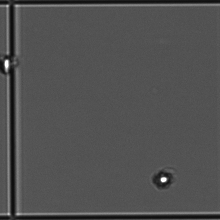Living Cell: (149, 167, 177, 191), (1, 55, 18, 78)
